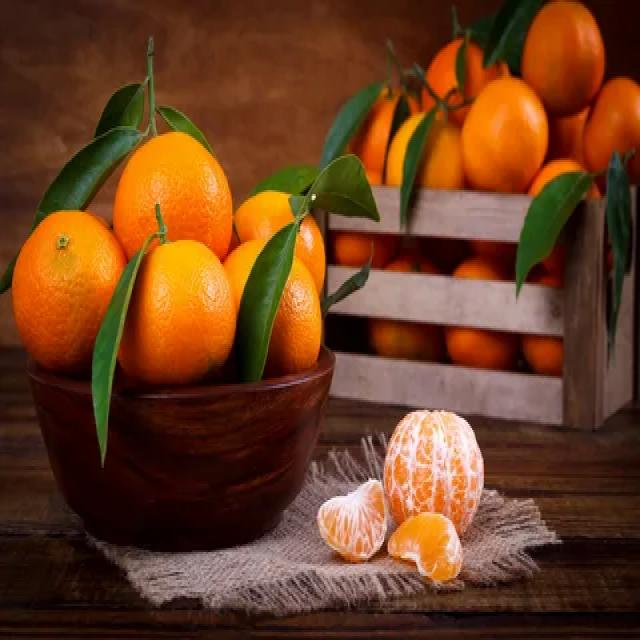orange: (112, 233, 244, 394), (454, 69, 550, 205)
